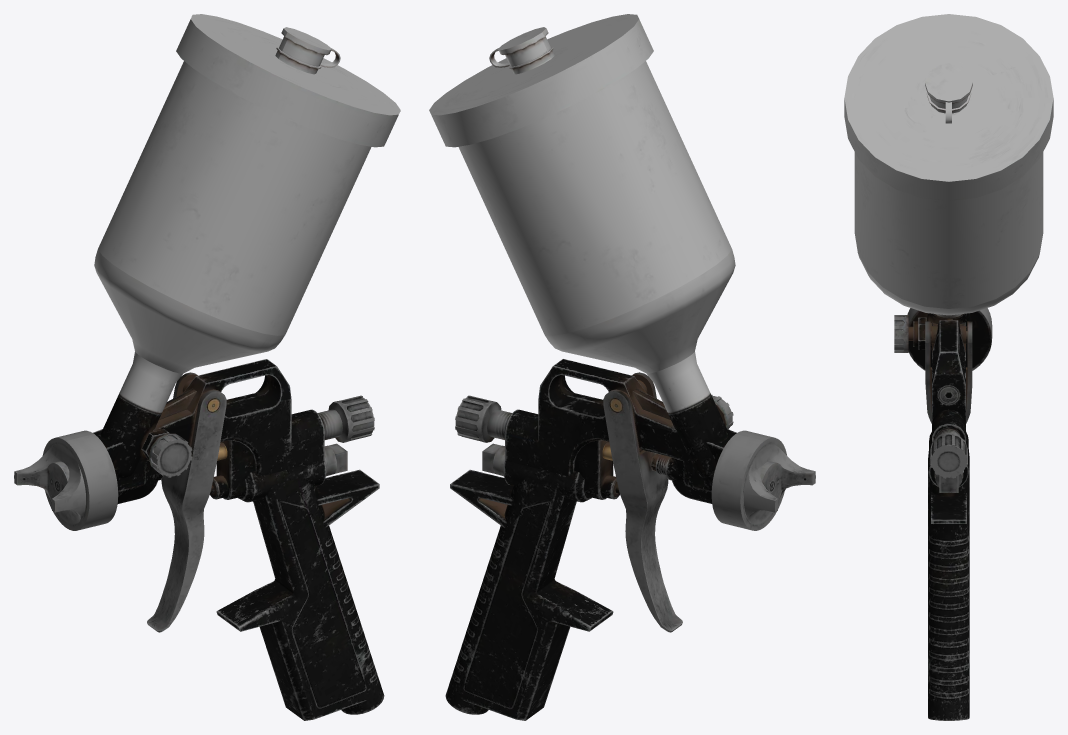
Rendered from spray_gun.opt.glb.
The picture shows the model from 3 angles, left to right: view 1: azimuth 30°, elevation 25°; view 2: azimuth 150°, elevation 25°; view 3: azimuth 270°, elevation 25°; orthographic projection. The views are drawn at different scales.
Parts seen in each view (by area): view 1: 152_low.001_SprayGun_0; view 2: 152_low.001_SprayGun_0; view 3: 152_low.001_SprayGun_0.
Boxes of the visible parts, x1,y1,x2,y2 form: 152_low.001_SprayGun_0: (14, 14, 400, 720); 152_low.001_SprayGun_0: (429, 14, 815, 720); 152_low.001_SprayGun_0: (844, 14, 1053, 720).
Bounding box in the file's own units: 2.57 × 4.98 × 1.47.
1 material, 1 textured.
